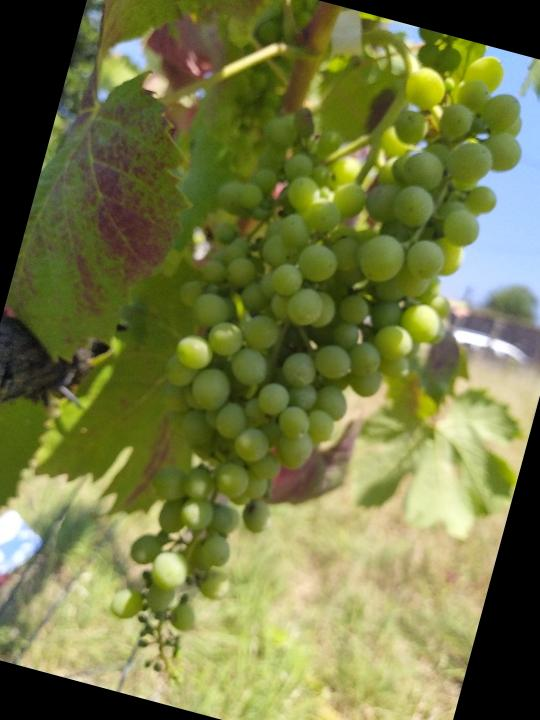grape: (86, 0, 540, 720)
